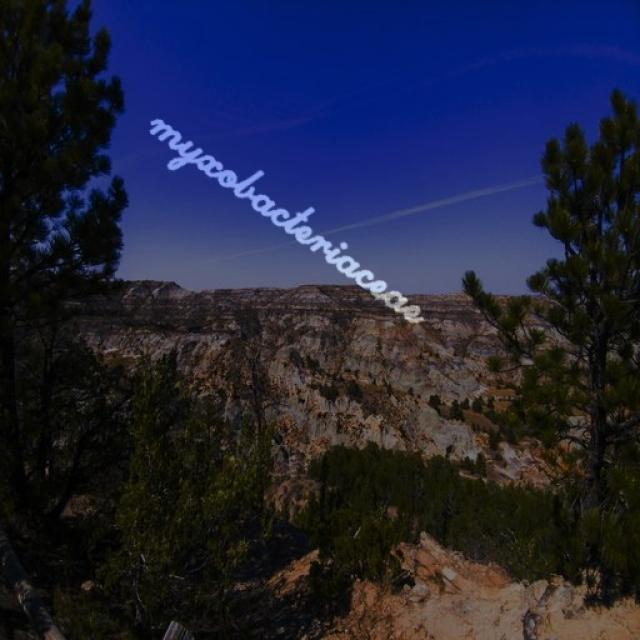watermark: (136, 95, 450, 334)
